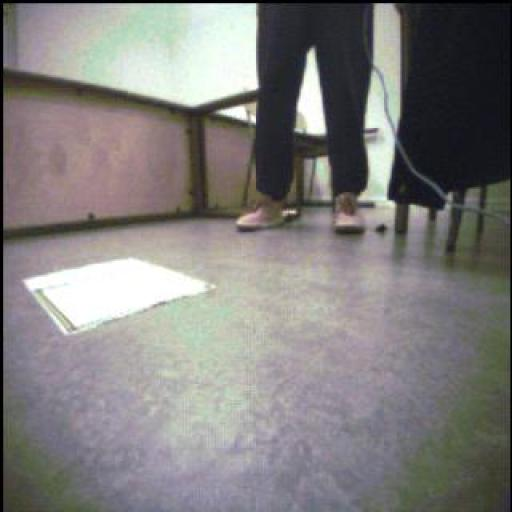Pad: (25, 259, 215, 336)
